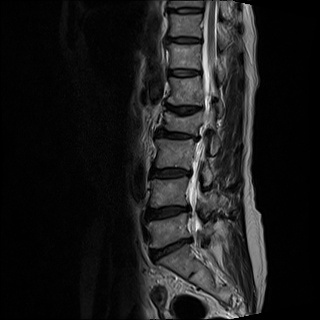L1,v2: (163, 80, 204, 103)
L1-L2,v2: (161, 99, 202, 122)
L1-L2,v5: (161, 99, 202, 122)
L2,v2: (159, 112, 200, 135)
L2-L3,v3: (155, 124, 196, 147)
L3,v2: (153, 142, 194, 165)
L3-L4,v3: (149, 161, 190, 184)
L4,v2: (147, 182, 188, 205)
L4-L5,v3: (146, 200, 187, 223)
L5,v2: (146, 219, 187, 242)
L5-S1,v2: (149, 237, 190, 260)
T12-L1,v1: (162, 61, 203, 84)
